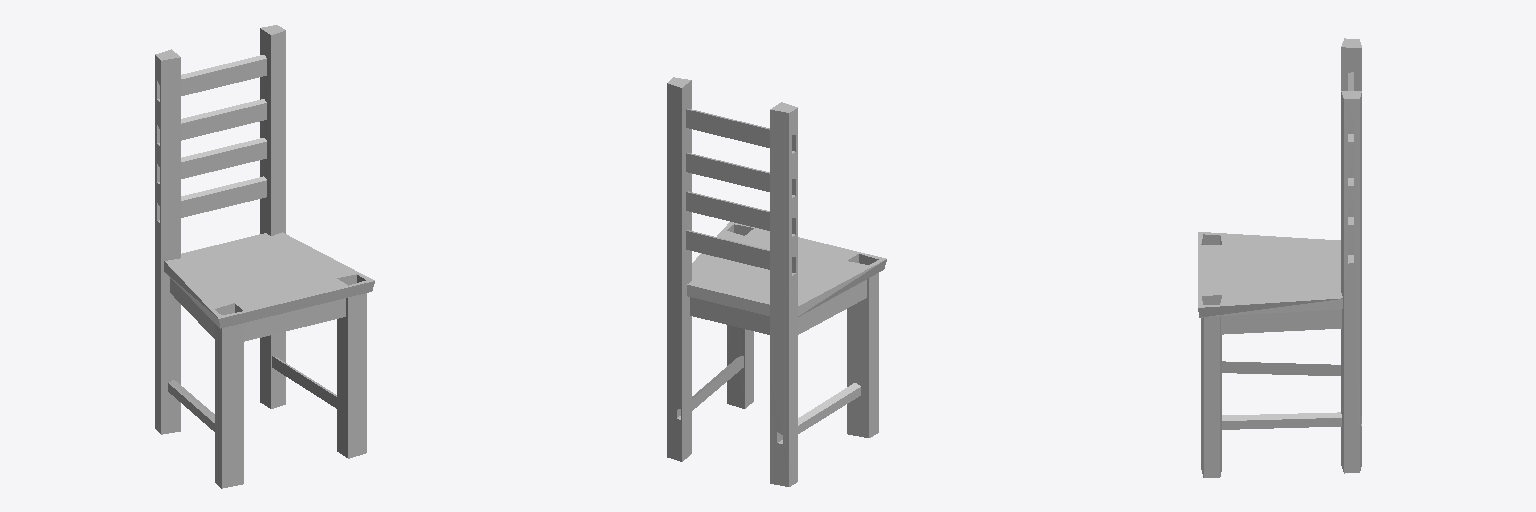
File: tinker.obj
3 views of the same model, side by side, from view 1: azimuth 30°, elevation 25°; view 2: azimuth 150°, elevation 25°; view 3: azimuth 270°, elevation 25° (orthographic).
Parts seen in each view (by area): view 1: obj_0; view 2: obj_0; view 3: obj_0.
Part boxes in pixels (left/top/right/bottom): obj_0: left=155, top=25, right=374, bottom=488; obj_0: left=667, top=77, right=886, bottom=486; obj_0: left=1198, top=38, right=1361, bottom=477.
Size of the model in its own units: 3.91 by 8.94 by 3.56.